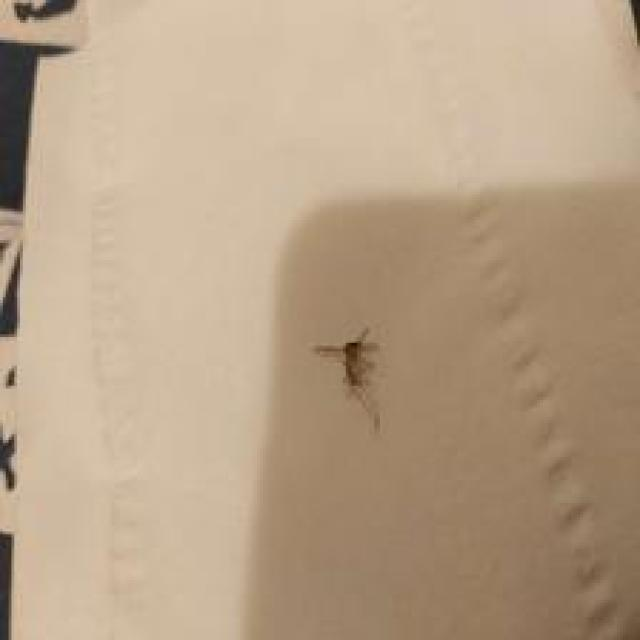Culex: (311, 327, 383, 433)
